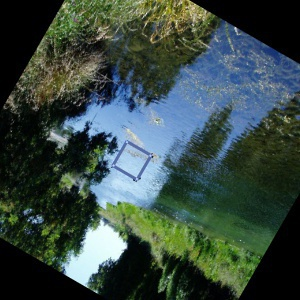square: (110, 137, 154, 183)
